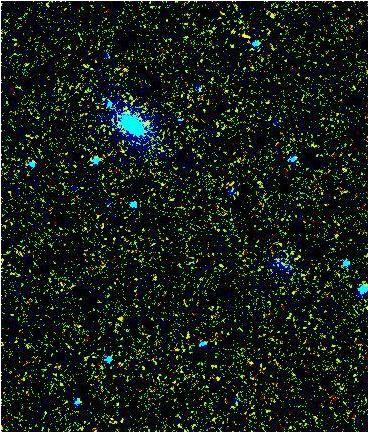star: (132, 109, 162, 139)
